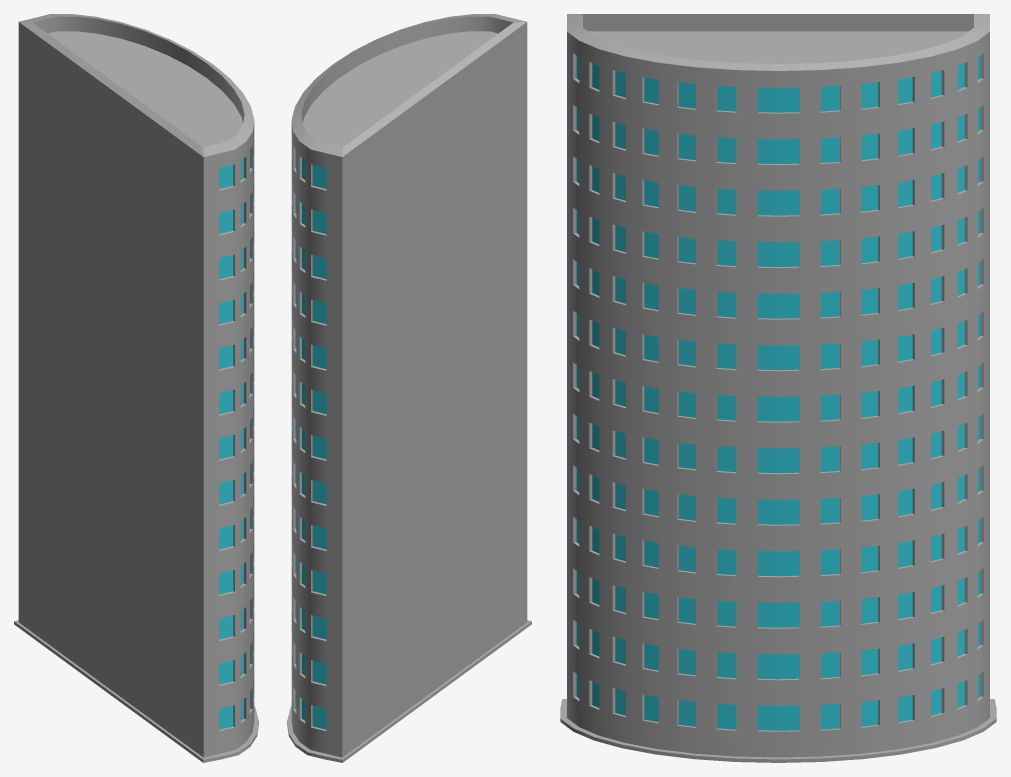
Rendered from Skyscraper 5.fbx.
The picture shows the model from 3 angles, left to right: view 1: azimuth 30°, elevation 25°; view 2: azimuth 150°, elevation 25°; view 3: azimuth 270°, elevation 25°; orthographic projection. The views are drawn at different scales.
Visible parts, largest first — view 1: Circle.002; view 2: Circle.002; view 3: Circle.002.
Part boxes in pixels (x1,y1,x2,y2): Circle.002: [14, 14, 258, 762]; Circle.002: [287, 14, 531, 762]; Circle.002: [560, 14, 996, 762].
Bounding box in the file's own units: 366 × 1965 × 1121.
